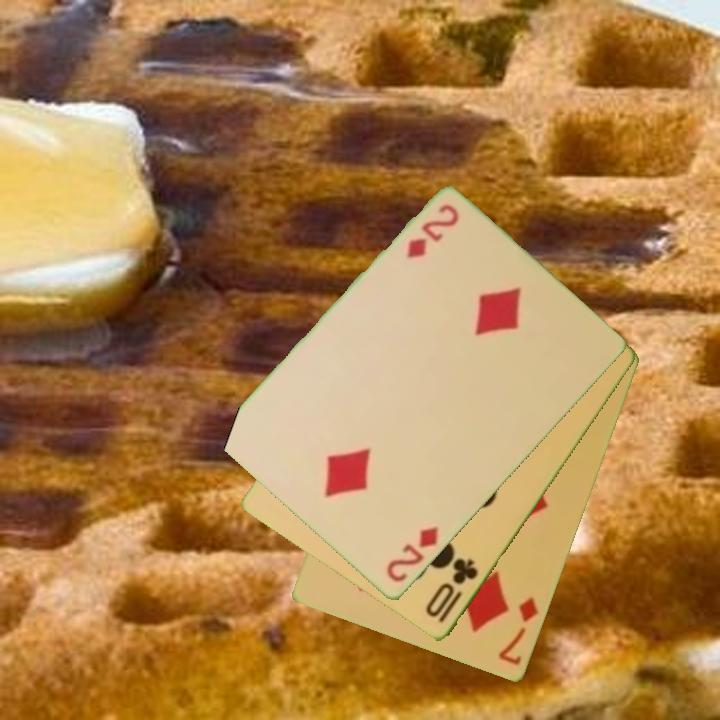10c: (422, 555, 482, 626)
2d: (382, 523, 442, 586), (403, 201, 462, 262)
7d: (495, 594, 542, 669)
